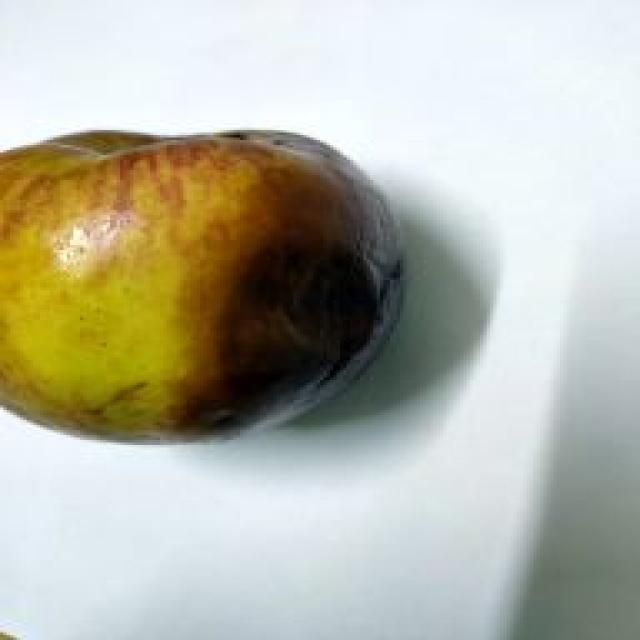Bad_Apple: (2, 131, 403, 441)
